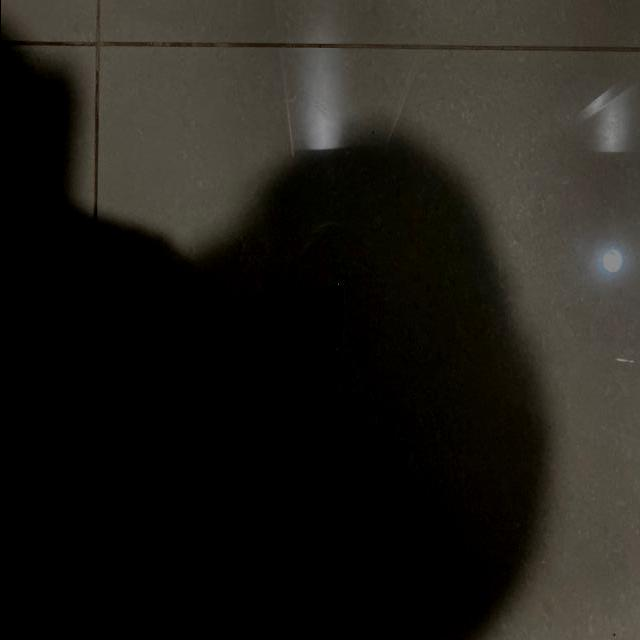AAA: (328, 284, 344, 359)
